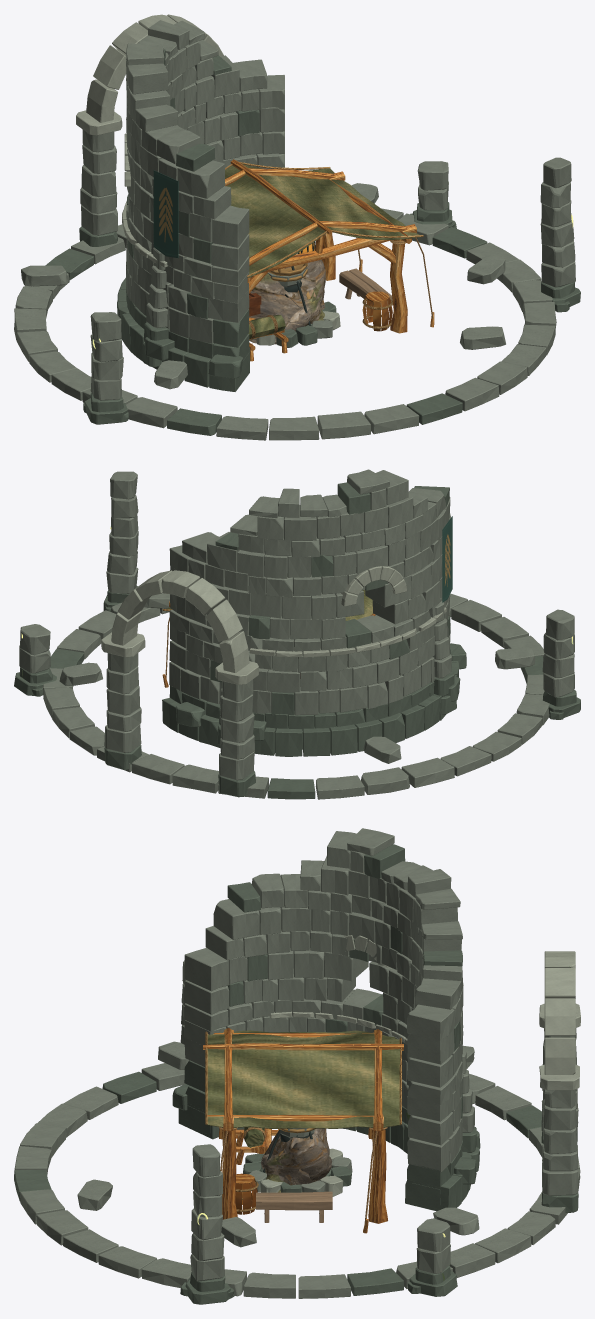
File: camp-low-r16.glb
3 views of the same model, one above another, from view 1: azimuth 30°, elevation 25°; view 2: azimuth 150°, elevation 25°; view 3: azimuth 270°, elevation 25° (orthographic). The views are drawn at different scales.
Parts seen in each view (by area): view 1: watchtower_r8_mesh, moonSanctum_r8_mesh, campShelter_r16_mesh, hearth_r8_mesh, boulder_r16_natural_mesh, boulderLow_r16_natural_mesh, relicStand_r8_mesh; view 2: watchtower_r8_mesh, moonSanctum_r8_mesh, campShelter_r16_mesh; view 3: watchtower_r8_mesh, moonSanctum_r8_mesh, campShelter_r16_mesh, hearth_r8_mesh, boulderLow_r16_natural_mesh, boulder_r16_natural_mesh.
Part boxes in pixels (box(x1,y1,x2,y2)): watchtower_r8_mesh: box(21, 20, 505, 391); moonSanctum_r8_mesh: box(14, 14, 580, 440); campShelter_r16_mesh: box(225, 159, 434, 361); hearth_r8_mesh: box(249, 266, 392, 347); boulder_r16_natural_mesh: box(249, 273, 325, 344); boulderLow_r16_natural_mesh: box(250, 259, 325, 343); relicStand_r8_mesh: box(267, 263, 312, 325); watchtower_r8_mesh: box(59, 469, 535, 763); moonSanctum_r8_mesh: box(14, 471, 580, 799); campShelter_r16_mesh: box(162, 590, 375, 687); watchtower_r8_mesh: box(77, 828, 480, 1247); moonSanctum_r8_mesh: box(14, 951, 580, 1304); campShelter_r16_mesh: box(203, 1028, 403, 1233); hearth_r8_mesh: box(243, 1129, 352, 1222); boulderLow_r16_natural_mesh: box(261, 1138, 331, 1192); boulder_r16_natural_mesh: box(263, 1128, 329, 1185).
Size of the model in its own units: 14.11 by 7.64 by 13.48.
Materials: 7 (7 with a texture image).
